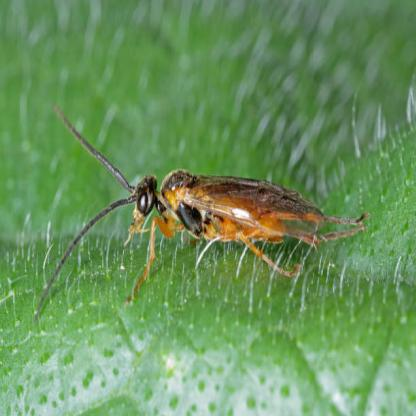sawfly: (30, 101, 372, 327)
